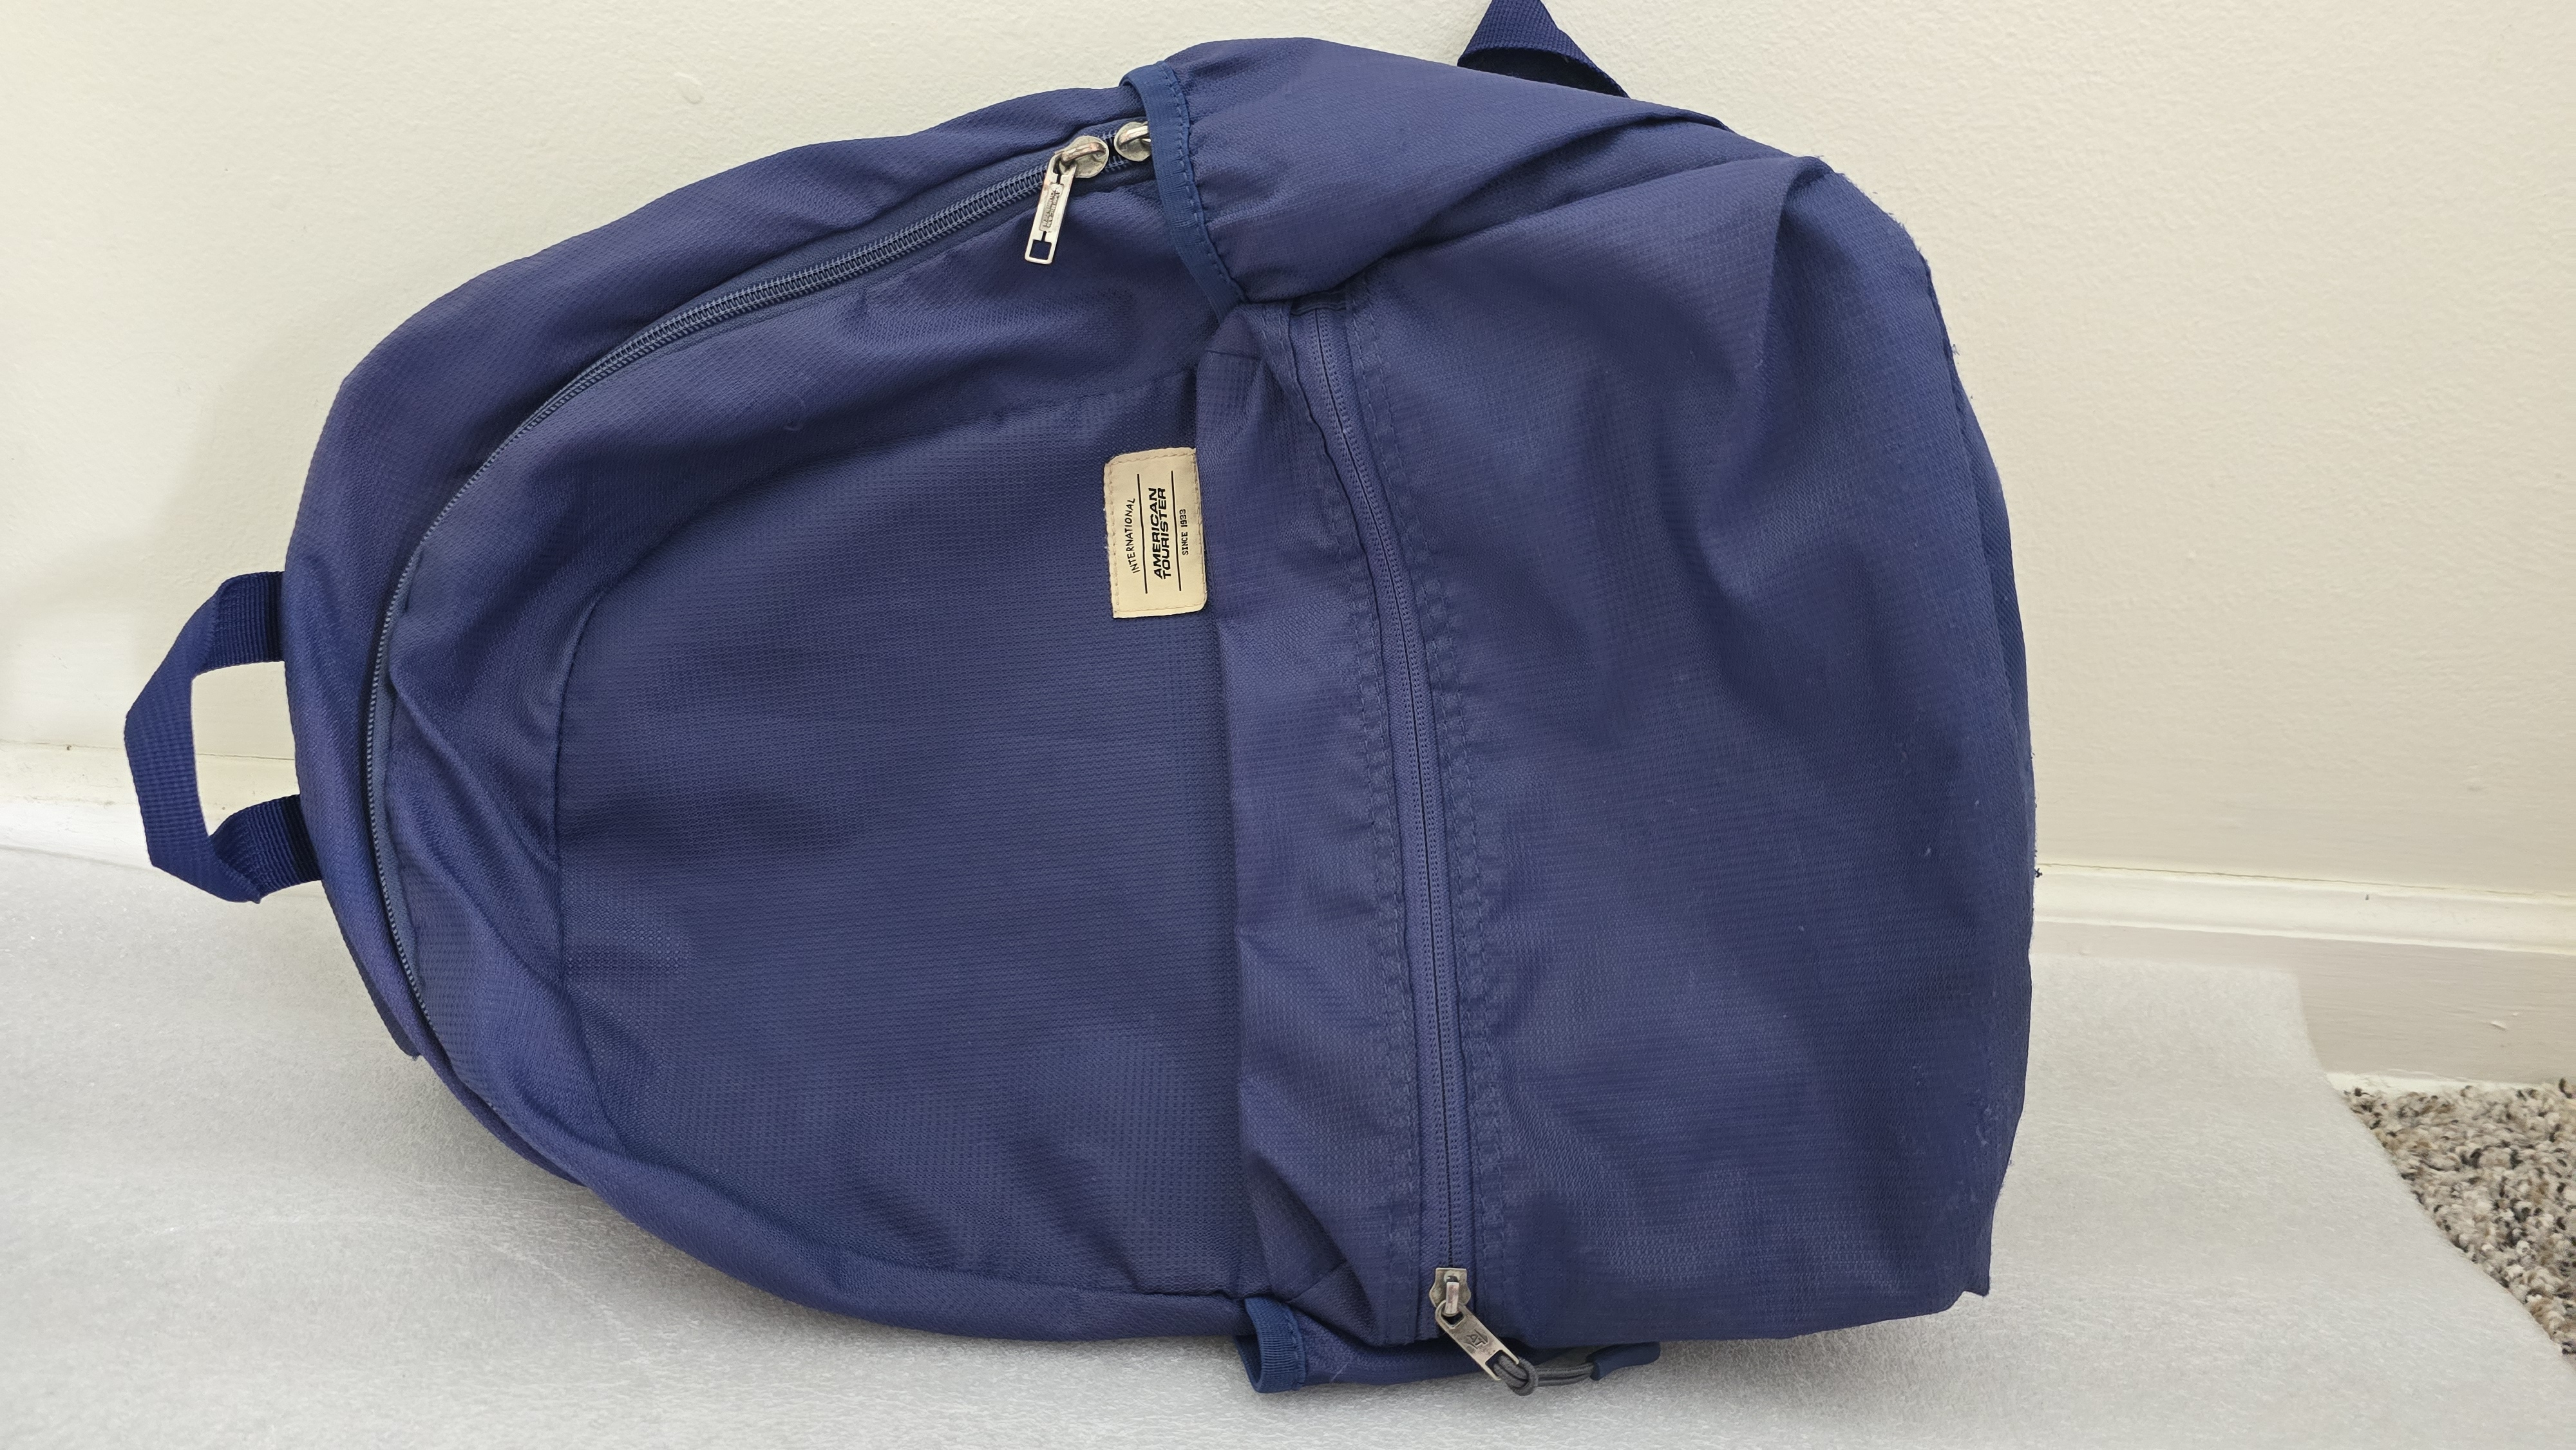bag: (37, 14, 2097, 1367)
